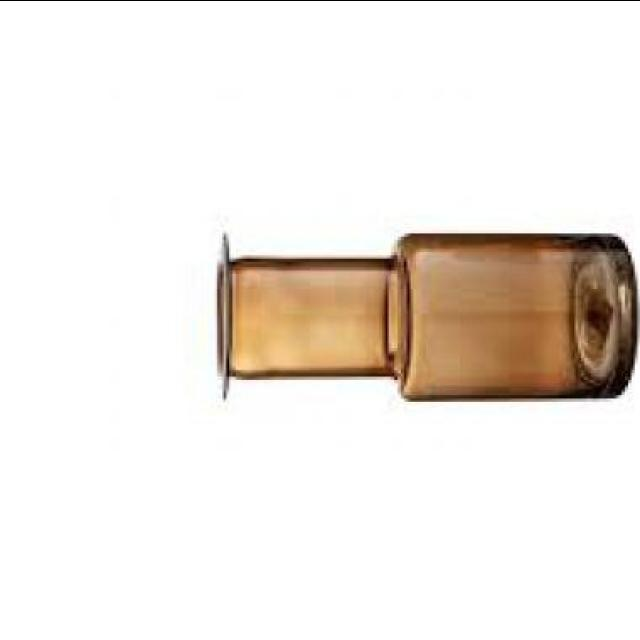kaca: (210, 229, 632, 401)
